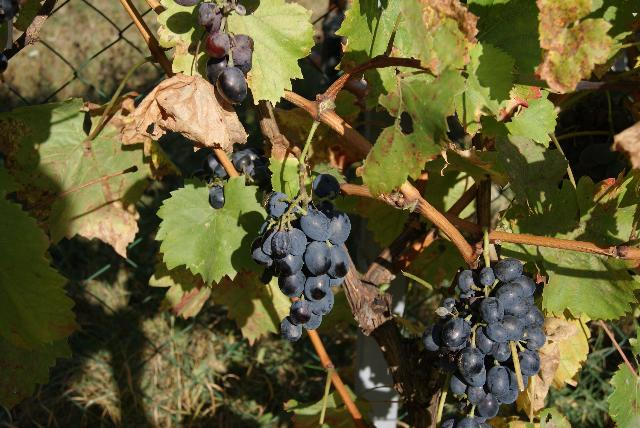grapes: (422, 258, 546, 428), (251, 175, 350, 340)
